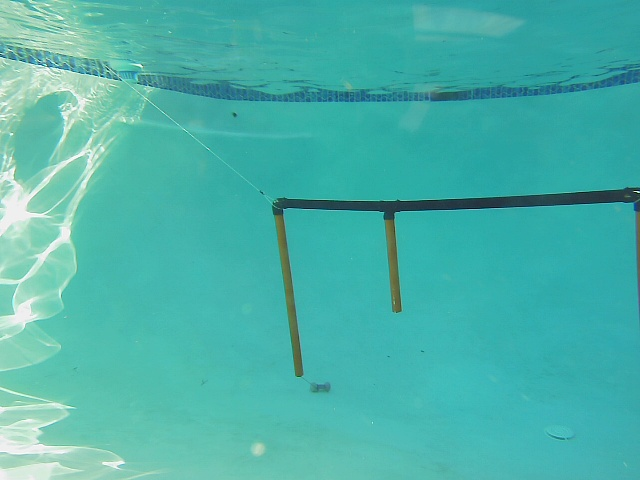Gate: (269, 211, 306, 379), (381, 213, 405, 319)
